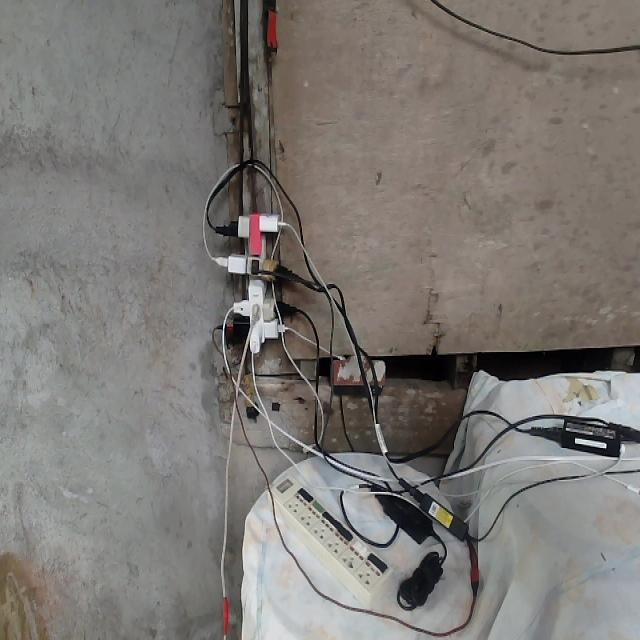-: (217, 213, 286, 359)
